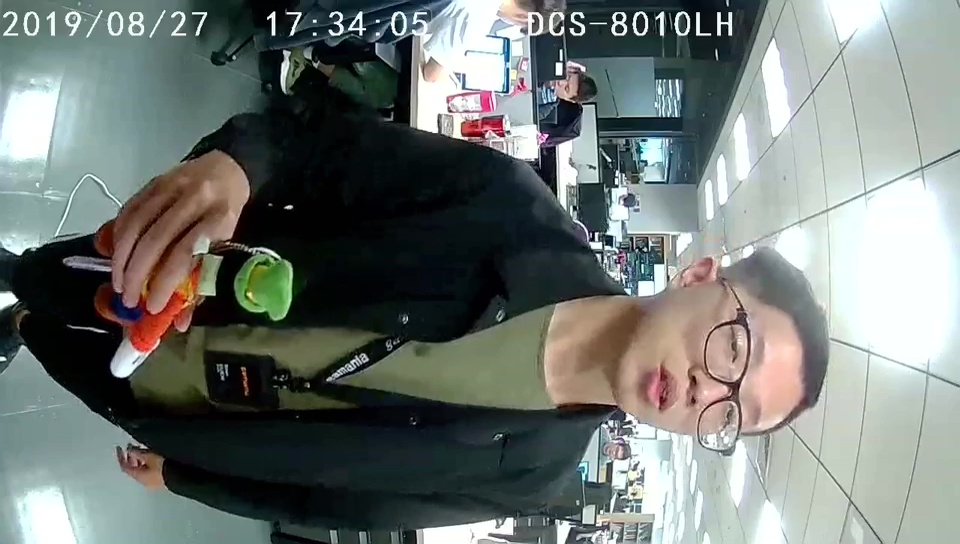goofy: (94, 216, 294, 379)
